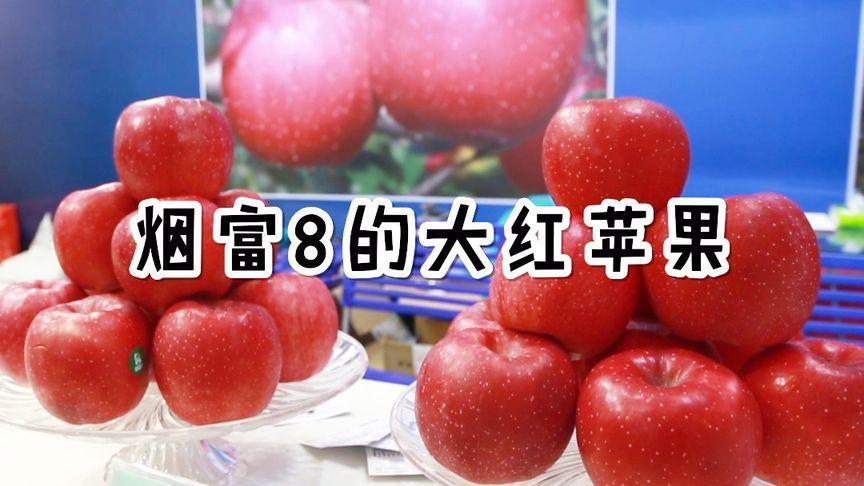apple: (368, 2, 588, 146), (218, 1, 380, 167), (575, 344, 764, 486), (647, 195, 819, 345), (417, 324, 576, 485), (491, 214, 640, 365), (739, 339, 863, 486), (151, 298, 283, 426), (541, 98, 691, 210), (26, 294, 150, 426), (112, 95, 231, 202), (232, 273, 338, 383), (2, 277, 88, 386), (55, 183, 134, 293)
